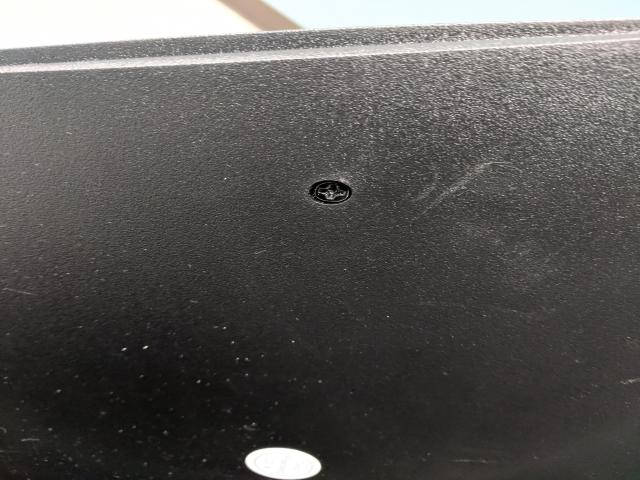CRS: (313, 180, 352, 203)
